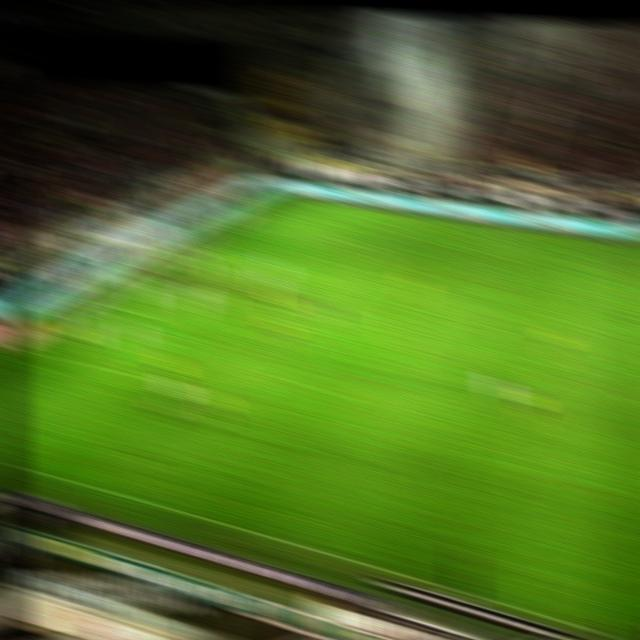bigarea_bottom_inner: (183, 382, 210, 397)
bigarea_bottom_outter: (6, 341, 32, 357)
bigarea_top_inner: (347, 235, 374, 250)
bigarea_top_outter: (223, 215, 250, 232)
bottom_arc_area_intersection: (252, 319, 280, 336)
corner: (266, 190, 293, 206)
smallarea_bottom_inner: (131, 304, 157, 319)
smallarea_bottom_outter: (85, 295, 112, 311)
smallarea_top_inner: (221, 248, 248, 263)
smallarea_top_outter: (179, 241, 208, 256)
top_arc_area_intersection: (310, 268, 338, 284)
